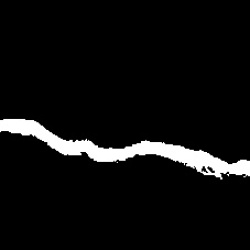crack: (3, 117, 249, 177)
